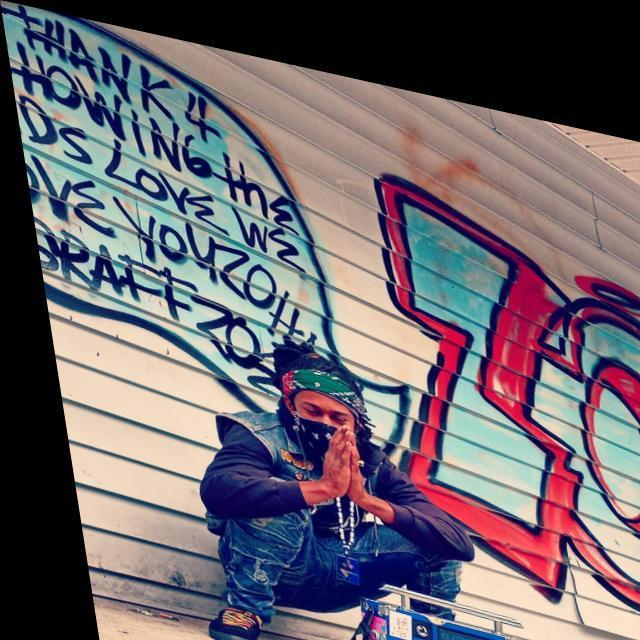-: (364, 150, 640, 609), (0, 2, 334, 379)
